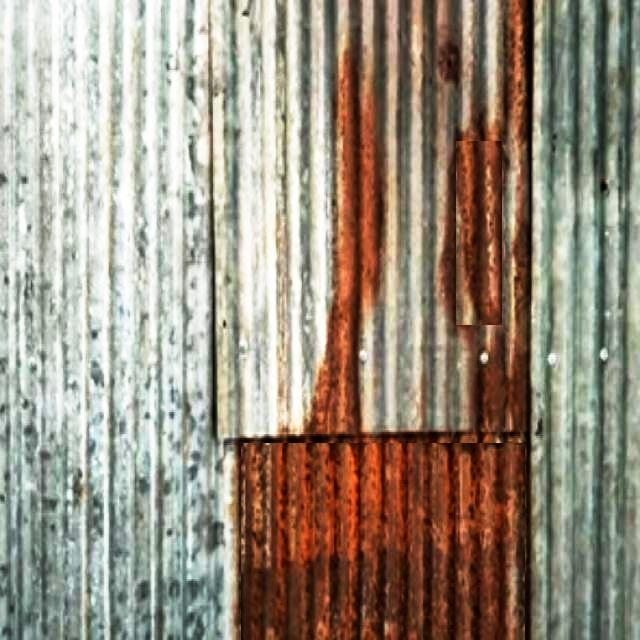Corrosion: (241, 434, 528, 640), (308, 36, 384, 434), (456, 140, 503, 324), (470, 141, 503, 324), (480, 327, 528, 434), (509, 139, 531, 356), (504, 0, 530, 144), (439, 41, 460, 80)
